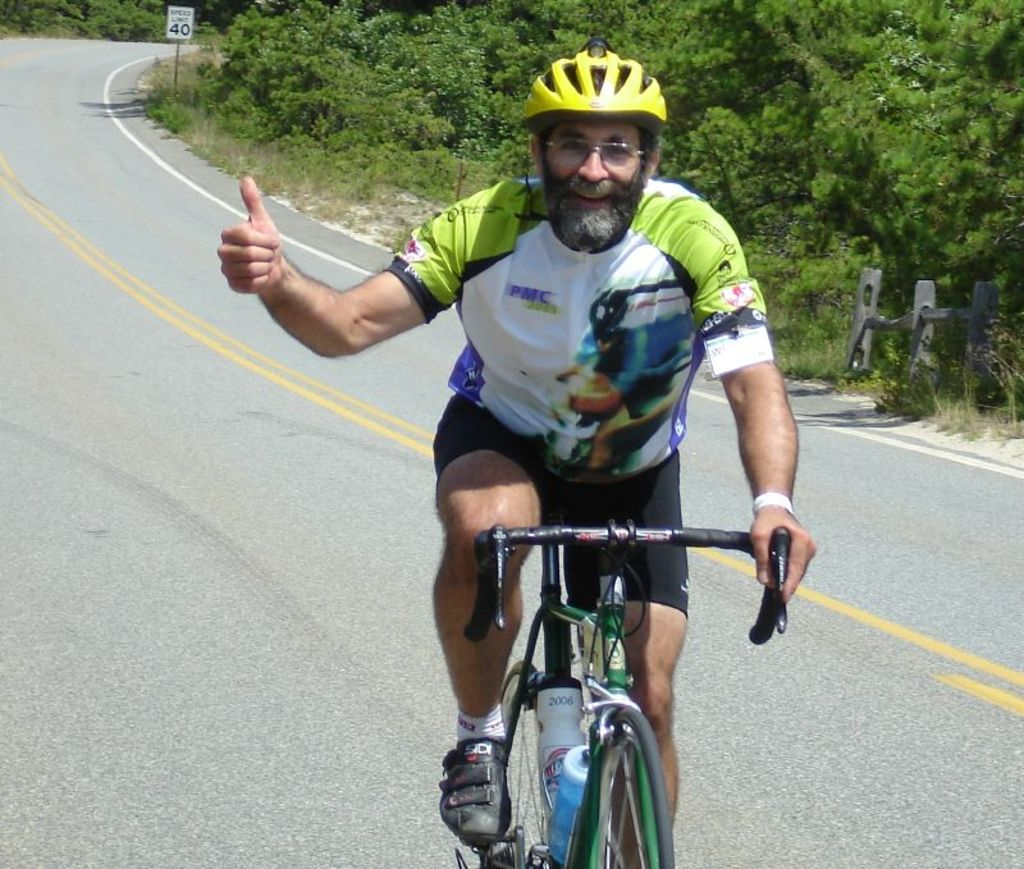Bike_toward: (432, 504, 818, 856)
